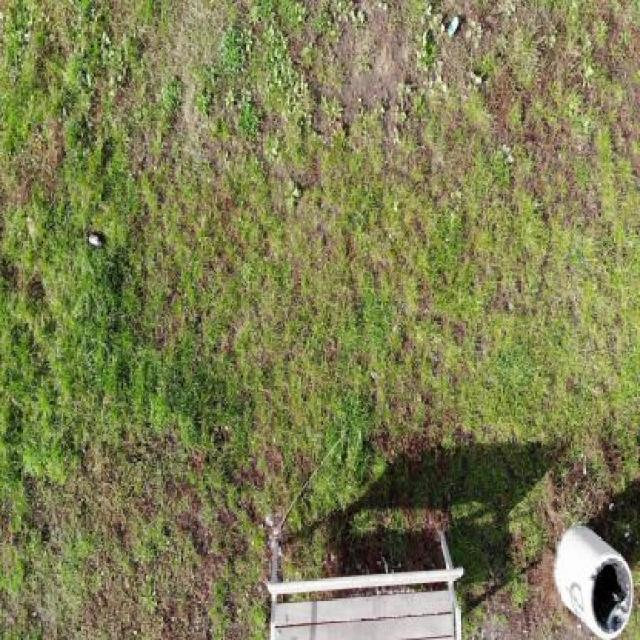Garbage: (86, 231, 108, 249), (445, 17, 460, 39)
